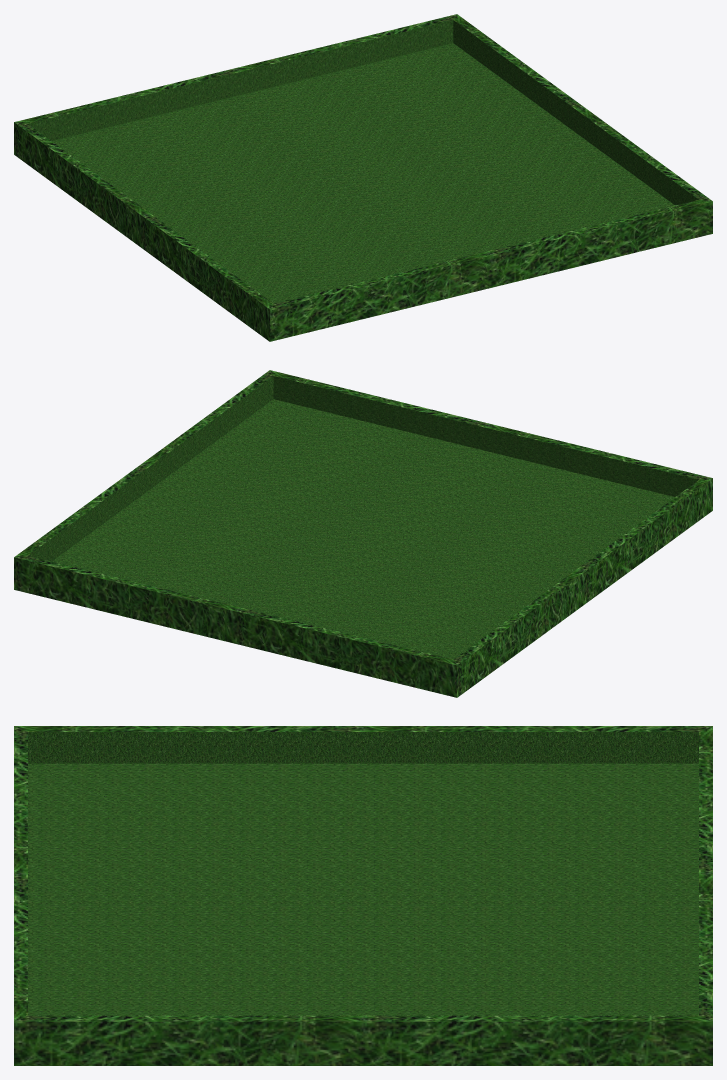
The model's file is world.fbx.
3 views of the same model, one above another, from view 1: azimuth 30°, elevation 25°; view 2: azimuth 150°, elevation 25°; view 3: azimuth 270°, elevation 25° (orthographic). The views are drawn at different scales.
Parts seen in each view (by area): view 1: Cube; view 2: Cube; view 3: Cube.
Part boxes in pixels (x1,y1,x2,y2): Cube: (14,14,712,341); Cube: (14,370,712,697); Cube: (14,726,712,1065).
Size of the model in its own units: 5000 by 350 by 5000.
